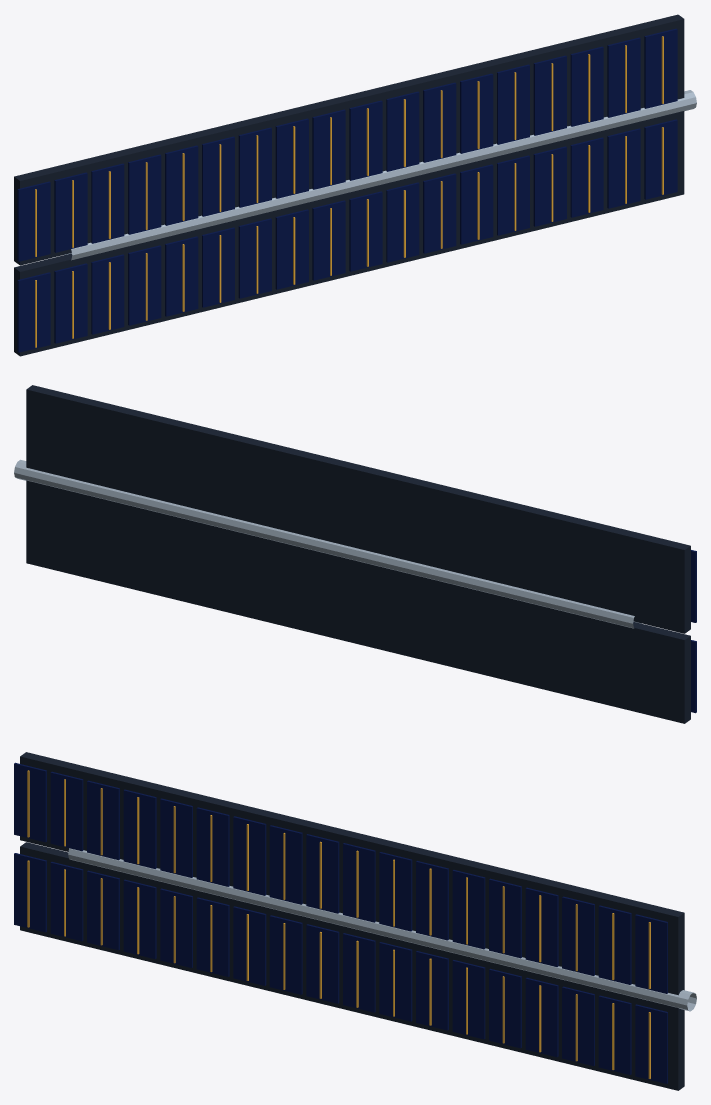
The model's file is 07_L85_StationSolarWingModule.fbx.
3 views of the same model, one above another, from view 1: azimuth 30°, elevation 25°; view 2: azimuth 150°, elevation 25°; view 3: azimuth 330°, elevation 25° (orthographic).
Visible parts, largest first — view 1: L85_StationSolarWingModule_Part_0001, L85_StationSolarWingModule_Part_0002, L85_StationSolarWingModule_Part_0000, L85_StationSolarWingModule_Part_0003, L85_StationSolarWingModule_Part_0007, L85_StationSolarWingModule_Part_0004, L85_StationSolarWingModule_Part_0005, L85_StationSolarWingModule_Part_0006; view 2: L85_StationSolarWingModule_Part_0000, L85_StationSolarWingModule_Part_0007; view 3: L85_StationSolarWingModule_Part_0001, L85_StationSolarWingModule_Part_0002, L85_StationSolarWingModule_Part_0000, L85_StationSolarWingModule_Part_0003, L85_StationSolarWingModule_Part_0007, L85_StationSolarWingModule_Part_0005, L85_StationSolarWingModule_Part_0004, L85_StationSolarWingModule_Part_0006.
Part boxes in pixels (x1,y1,x2,y2): L85_StationSolarWingModule_Part_0001: (17, 155, 529, 352); L85_StationSolarWingModule_Part_0002: (17, 100, 677, 261); L85_StationSolarWingModule_Part_0000: (14, 14, 684, 356); L85_StationSolarWingModule_Part_0003: (386, 28, 677, 171); L85_StationSolarWingModule_Part_0007: (64, 90, 696, 260); L85_StationSolarWingModule_Part_0004: (35, 163, 516, 347); L85_StationSolarWingModule_Part_0005: (35, 108, 663, 256); L85_StationSolarWingModule_Part_0006: (403, 36, 663, 166); L85_StationSolarWingModule_Part_0000: (26, 385, 690, 723); L85_StationSolarWingModule_Part_0007: (14, 459, 641, 628); L85_StationSolarWingModule_Part_0001: (14, 853, 521, 1048); L85_StationSolarWingModule_Part_0002: (14, 762, 667, 1083); L85_StationSolarWingModule_Part_0000: (20, 752, 684, 1090); L85_StationSolarWingModule_Part_0003: (379, 852, 667, 993); L85_StationSolarWingModule_Part_0007: (68, 848, 696, 1011); L85_StationSolarWingModule_Part_0005: (27, 770, 650, 1078); L85_StationSolarWingModule_Part_0004: (27, 860, 504, 1043); L85_StationSolarWingModule_Part_0006: (393, 859, 650, 988).
Bounding box in the file's own units: 446 × 110 × 13.75.
